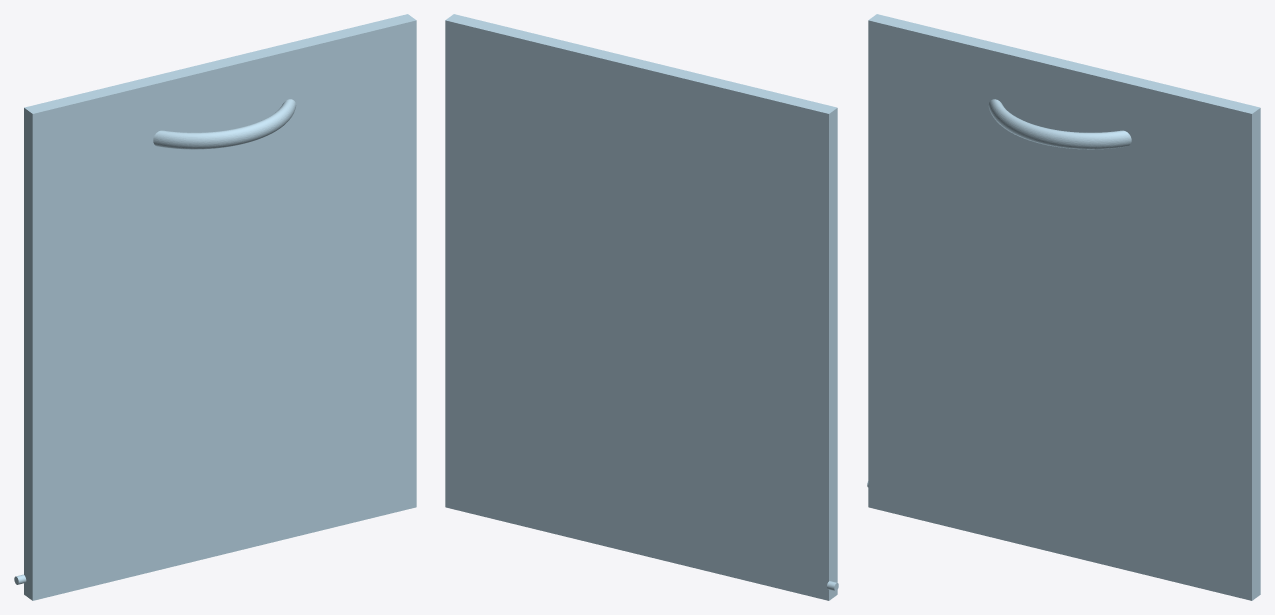
The model's file is oven_door.dae.
The picture shows the model from 3 angles, left to right: view 1: azimuth 30°, elevation 25°; view 2: azimuth 150°, elevation 25°; view 3: azimuth 330°, elevation 25°; orthographic projection.
Visible parts, largest first — view 1: node0; view 2: node0; view 3: node0.
Boxes of the visible parts, x1,y1,x2,y2 form: node0: [14, 14, 416, 600]; node0: [445, 14, 838, 600]; node0: [867, 14, 1260, 600].
Size of the model in its own units: 0.3302 by 0.0463 by 0.3926.
